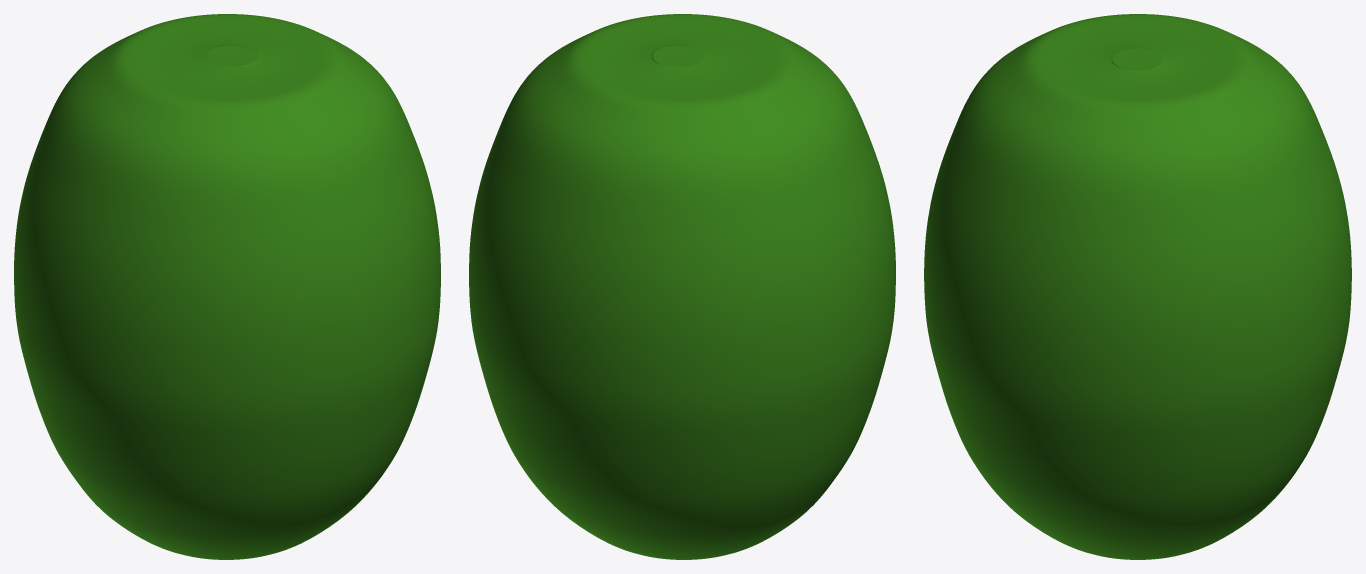
The model's file is kiwi.glb.
The picture shows the model from 3 angles, left to right: view 1: azimuth 30°, elevation 25°; view 2: azimuth 150°, elevation 25°; view 3: azimuth 270°, elevation 25°; orthographic projection.
Visible parts, largest first — view 1: Kiwi; view 2: Kiwi; view 3: Kiwi.
Boxes of the visible parts, x1,y1,x2,y2 form: Kiwi: (14,14,440,559); Kiwi: (469,14,895,559); Kiwi: (924,14,1351,559).
Bounding box in the file's own units: 0.9994 × 1.25 × 0.9994.
